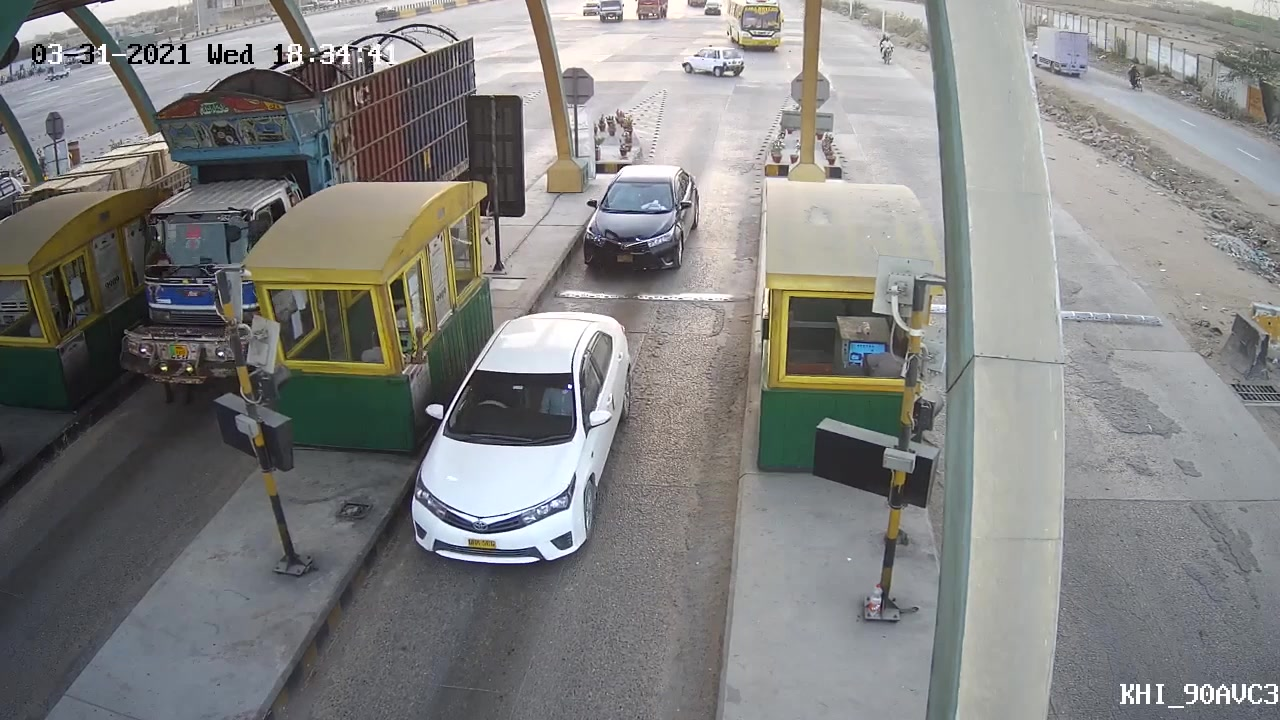F1: (406, 307, 636, 578), (584, 149, 709, 282)
